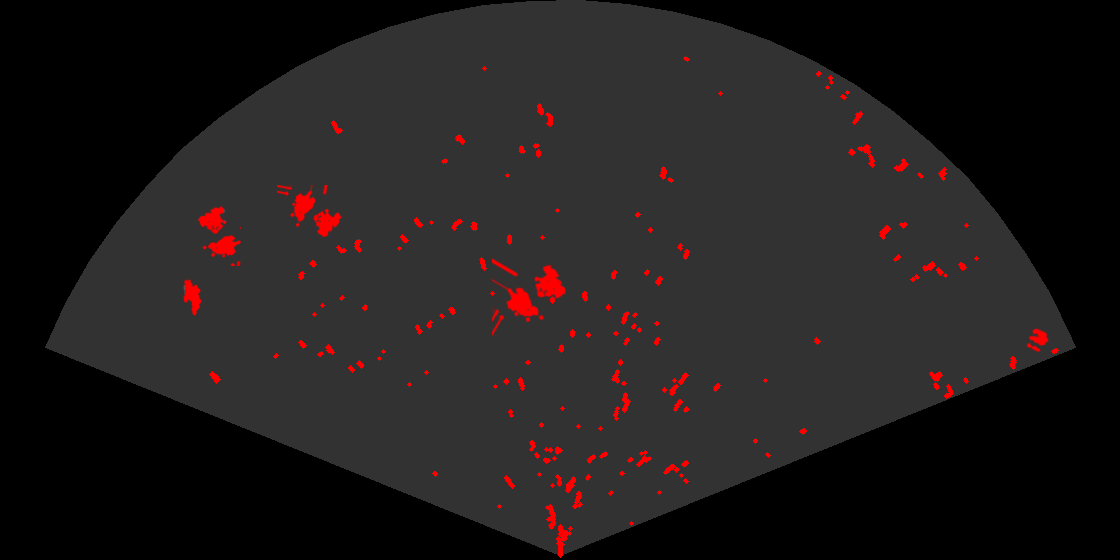AUV: (182, 278, 203, 317)
ball: (1025, 327, 1050, 354)
cage: (492, 257, 568, 338), (277, 185, 344, 239), (196, 204, 241, 266)
